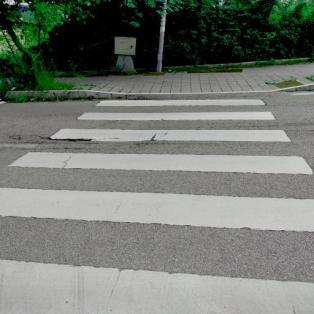Paso de Cebra: (4, 128, 314, 179), (74, 98, 278, 122)
